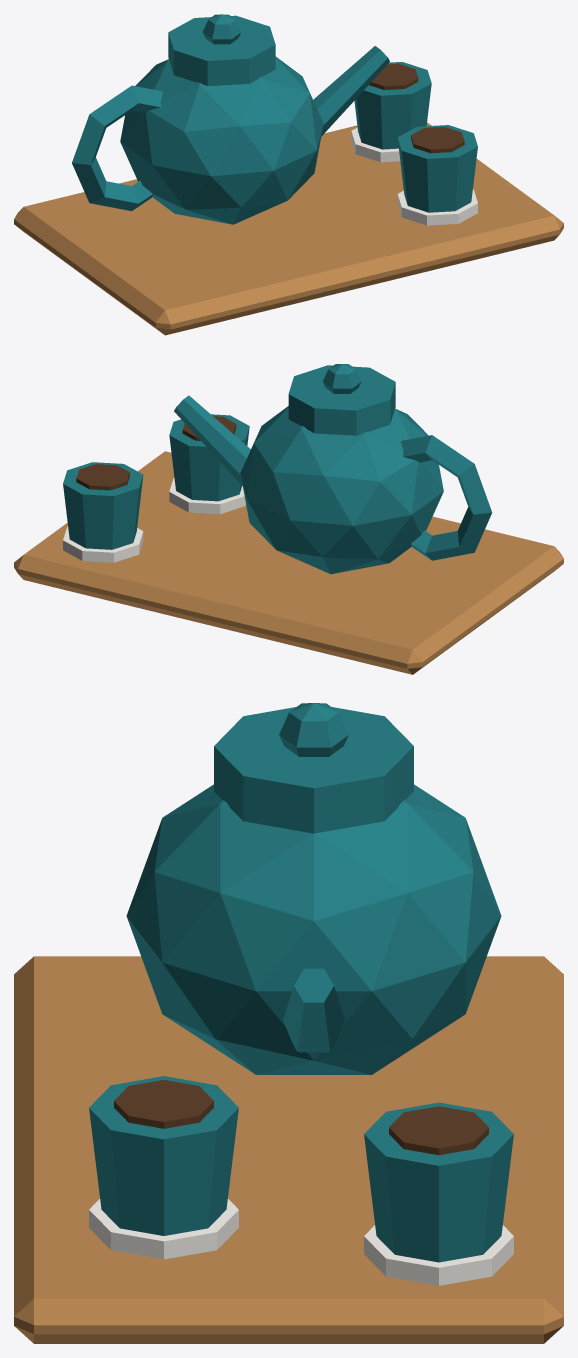
File: teapot_set.glb
The picture shows the model from 3 angles, top to bottom: view 1: azimuth 30°, elevation 25°; view 2: azimuth 150°, elevation 25°; view 3: azimuth 270°, elevation 25°; orthographic projection. The views are drawn at different scales.
Visible parts, largest first — view 1: teapot_set; view 2: teapot_set; view 3: teapot_set.
Part boxes in pixels (x1,y1,x2,y2): teapot_set: [14, 14, 563, 335]; teapot_set: [14, 364, 563, 674]; teapot_set: [14, 703, 563, 1343].
Size of the model in its own units: 0.345 by 0.184 by 0.22.
